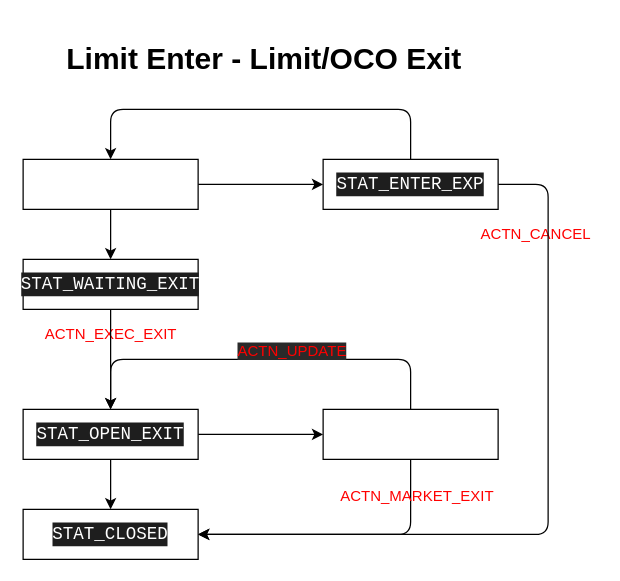
This 620x581 diagram has some shape labels left out. The shapes that lost their labels are listed below. From the top down, each one's box as (x1, y1, x2, y2) in pixels, then its label:
(22, 158, 198, 209): STAT_OPEN_ENTER
(322, 408, 498, 459): STAT_EXIT_EXP
